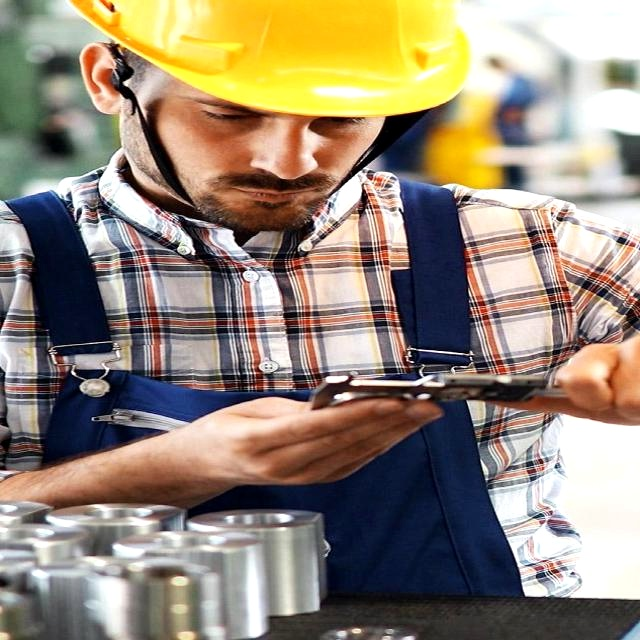Con_Casco: (55, 1, 464, 135)
